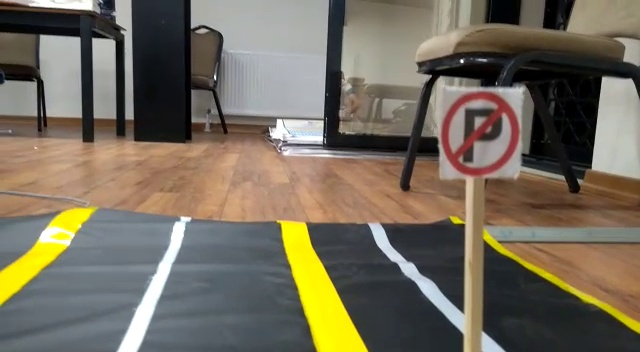park_yapilmaz: (439, 89, 523, 177)
